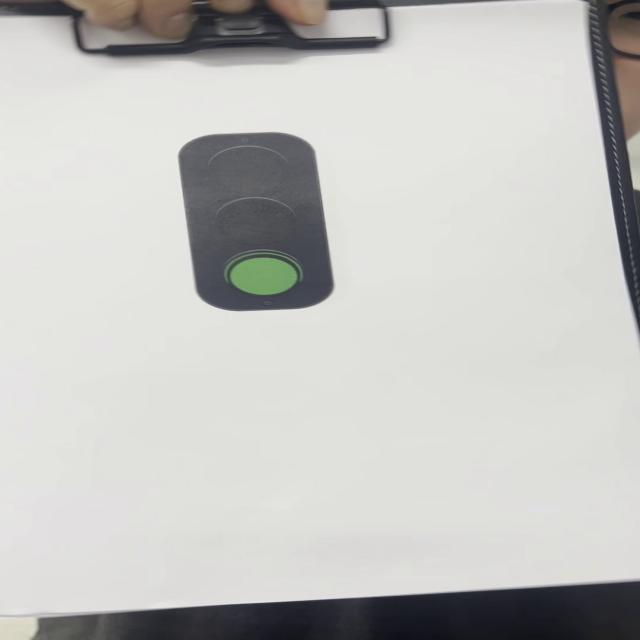green: (181, 134, 335, 312)
